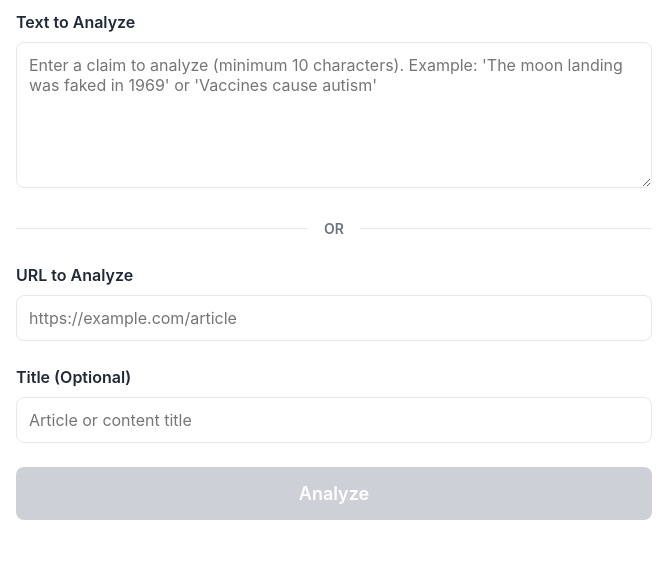
Test case: InputForm › Validation - Task 5.1 › displays error when neither text nor URL is provided
The image size is (669, 566).
# Touch the field
Replace the text in the text box labelled "Text to Analyze" with "a" at (334, 115), box [16, 42, 652, 188]
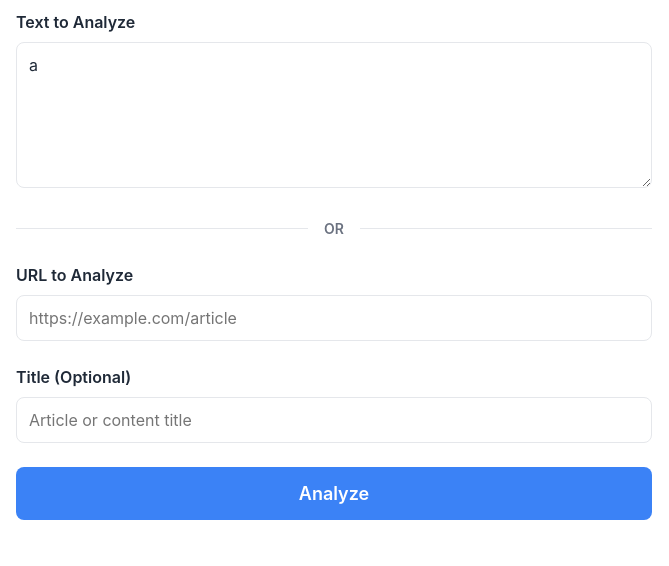
Clear the text box labelled "Text to Analyze" at (334, 115), box [16, 42, 652, 188]
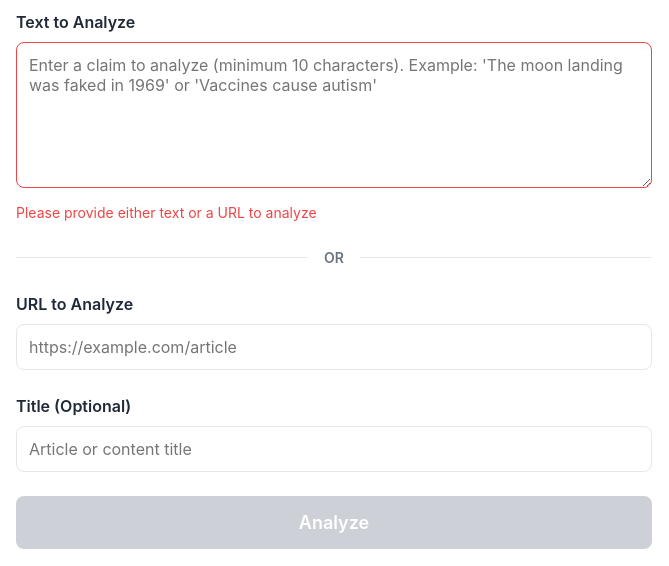
Result: the text "Please provide either text or a URL to analyze" is shown at [16, 204, 317, 221]
Result: the button "Analyze" is disabled at [16, 496, 652, 549]
